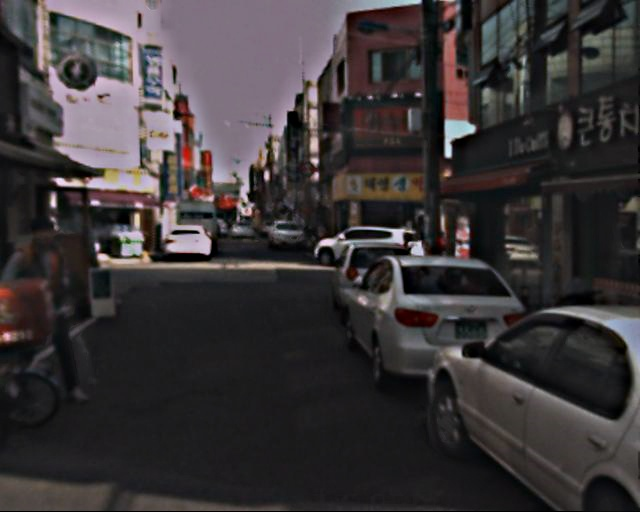person: (7, 217, 99, 404)
